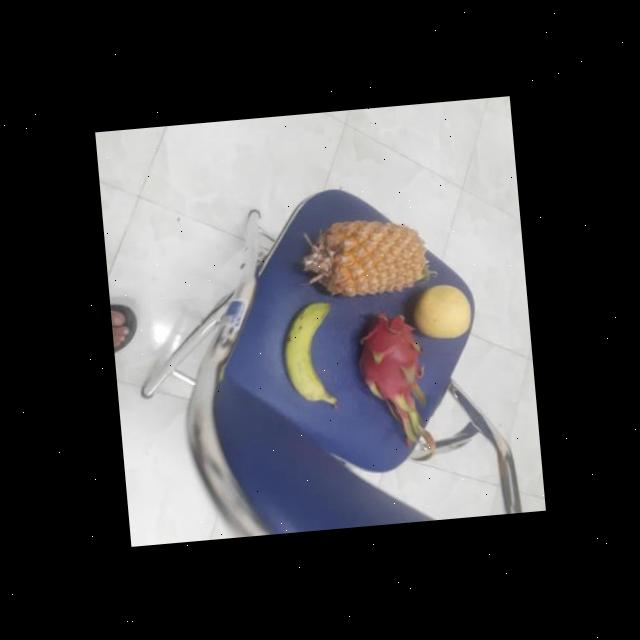banana: (280, 300, 344, 406)
pear: (411, 280, 473, 344)
pineapple: (304, 214, 432, 301)
pitaya: (355, 310, 427, 422)
